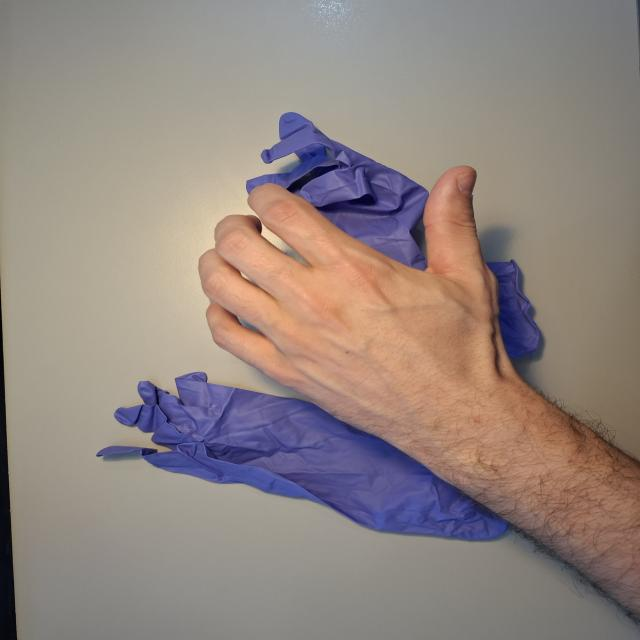glove_off: (195, 163, 538, 437)
